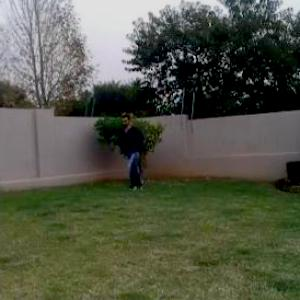follow: (119, 107, 146, 195)
